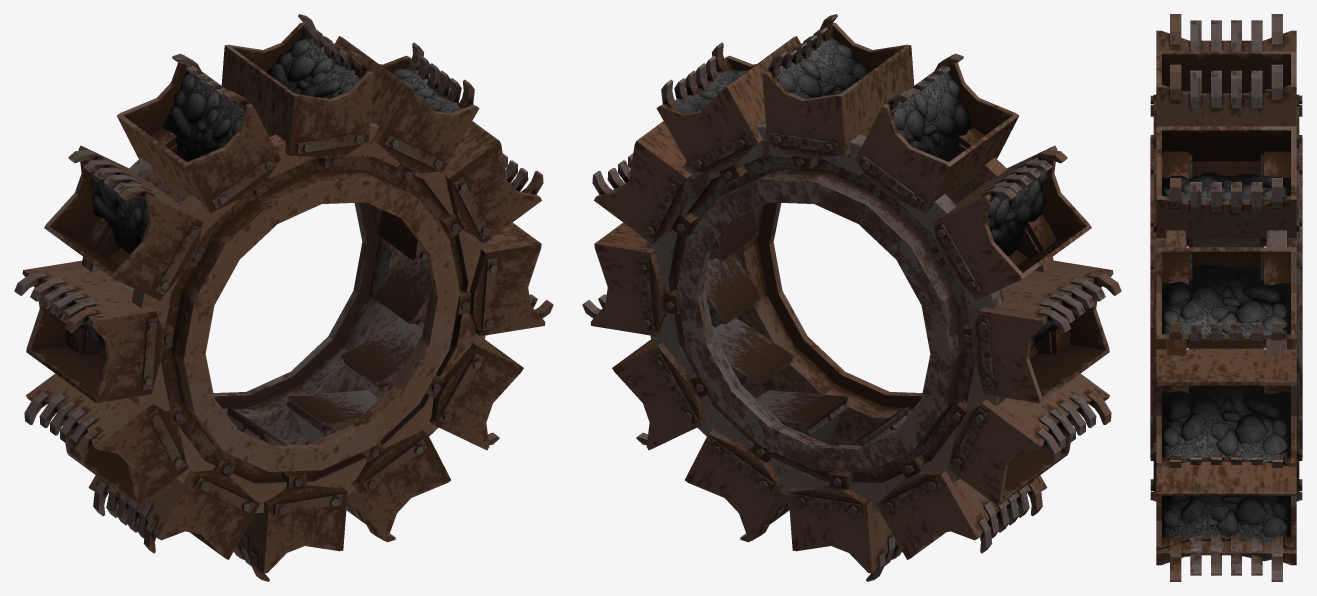
File: HeavyAutoMiner.glb
The picture shows the model from 3 angles, left to right: view 1: azimuth 30°, elevation 25°; view 2: azimuth 150°, elevation 25°; view 3: azimuth 270°, elevation 25°; orthographic projection.
Parts seen in each view (by area): view 1: HeavyAutoMiner_Bucket, HeavyAutoMiner_BucketOre (9), HeavyAutoMiner_BucketOre (10), HeavyAutoMiner_BucketOre (8), HeavyAutoMiner_BucketOre (5); view 2: HeavyAutoMiner_Bucket, HeavyAutoMiner_BucketOre (9), HeavyAutoMiner_BucketOre (10), HeavyAutoMiner_BucketOre (8), HeavyAutoMiner_BucketOre (5); view 3: HeavyAutoMiner_Bucket, HeavyAutoMiner_BucketOre (7), HeavyAutoMiner_BucketOre (6), HeavyAutoMiner_BucketOre (1), HeavyAutoMiner_BucketOre (5), HeavyAutoMiner_BucketOre (2).
Part boxes in pixels (x1,y1,x2,y2): HeavyAutoMiner_Bucket: [14, 14, 553, 581]; HeavyAutoMiner_BucketOre (9): [163, 71, 244, 161]; HeavyAutoMiner_BucketOre (10): [266, 37, 359, 98]; HeavyAutoMiner_BucketOre (8): [90, 159, 148, 254]; HeavyAutoMiner_BucketOre (5): [391, 68, 460, 113]; HeavyAutoMiner_Bucket: [582, 14, 1121, 581]; HeavyAutoMiner_BucketOre (9): [891, 71, 973, 161]; HeavyAutoMiner_BucketOre (10): [776, 36, 871, 98]; HeavyAutoMiner_BucketOre (8): [987, 170, 1047, 255]; HeavyAutoMiner_BucketOre (5): [674, 68, 747, 113]; HeavyAutoMiner_Bucket: [1150, 14, 1302, 581]; HeavyAutoMiner_BucketOre (7): [1162, 385, 1290, 461]; HeavyAutoMiner_BucketOre (6): [1162, 265, 1290, 335]; HeavyAutoMiner_BucketOre (1): [1162, 496, 1290, 544]; HeavyAutoMiner_BucketOre (5): [1162, 172, 1290, 201]; HeavyAutoMiner_BucketOre (2): [1164, 553, 1287, 561].
Bounding box in the file's own units: 4.69 × 4.69 × 1.27.
Materials: 2 (2 with a texture image).
